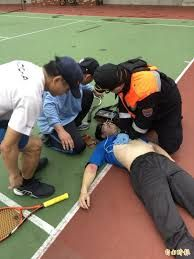fall: (74, 107, 194, 259)
